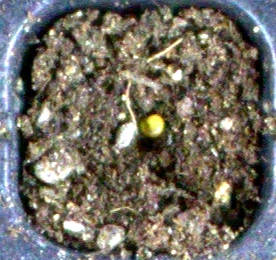pepper seed: (56, 45, 221, 183)
